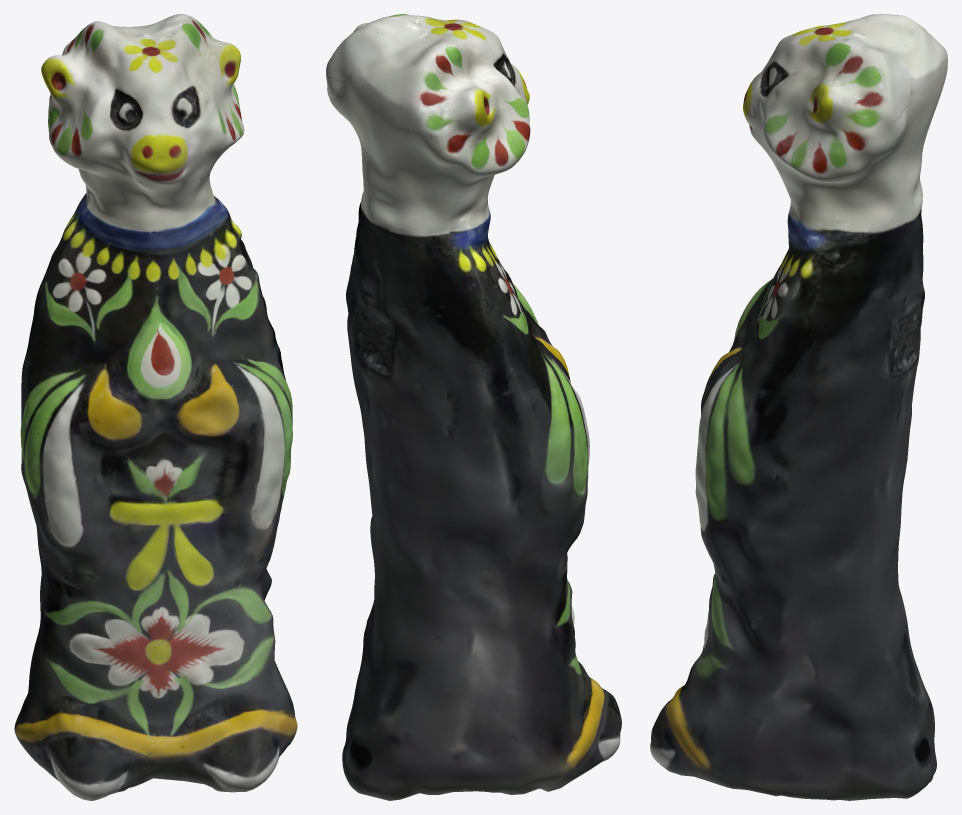
3 renders of one model, left to right at view 1: azimuth 30°, elevation 25°; view 2: azimuth 150°, elevation 25°; view 3: azimuth 270°, elevation 25°, orthographic. The views are drawn at different scales.
Size of the model in its own units: 0.3118 by 0.9346 by 0.3351.
Materials: 1 (1 with a texture image).
